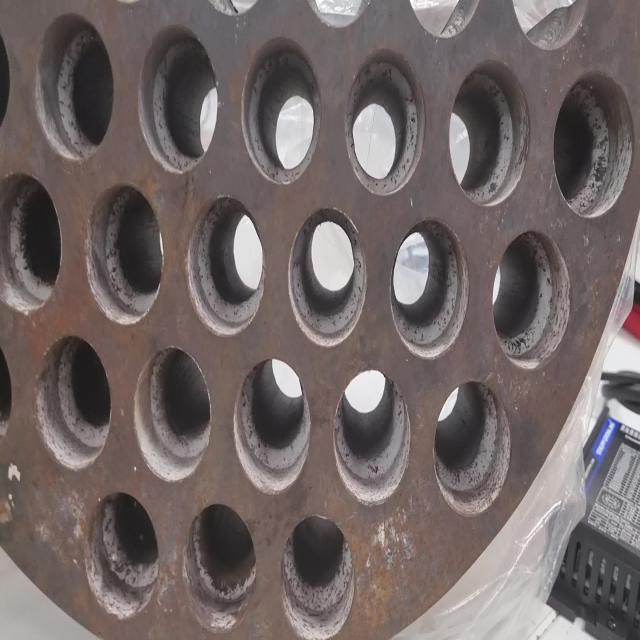Hole: (31, 12, 114, 162), (552, 70, 635, 218), (448, 59, 530, 206), (241, 36, 321, 186), (138, 25, 218, 173), (344, 48, 424, 196), (84, 182, 164, 326), (390, 216, 469, 360), (184, 195, 264, 337), (288, 205, 367, 348), (232, 356, 312, 494), (492, 229, 570, 370), (134, 344, 211, 484), (333, 368, 410, 506), (433, 380, 511, 516), (35, 333, 111, 471), (182, 501, 257, 632), (85, 490, 160, 620), (281, 514, 355, 640), (2, 172, 62, 316)
